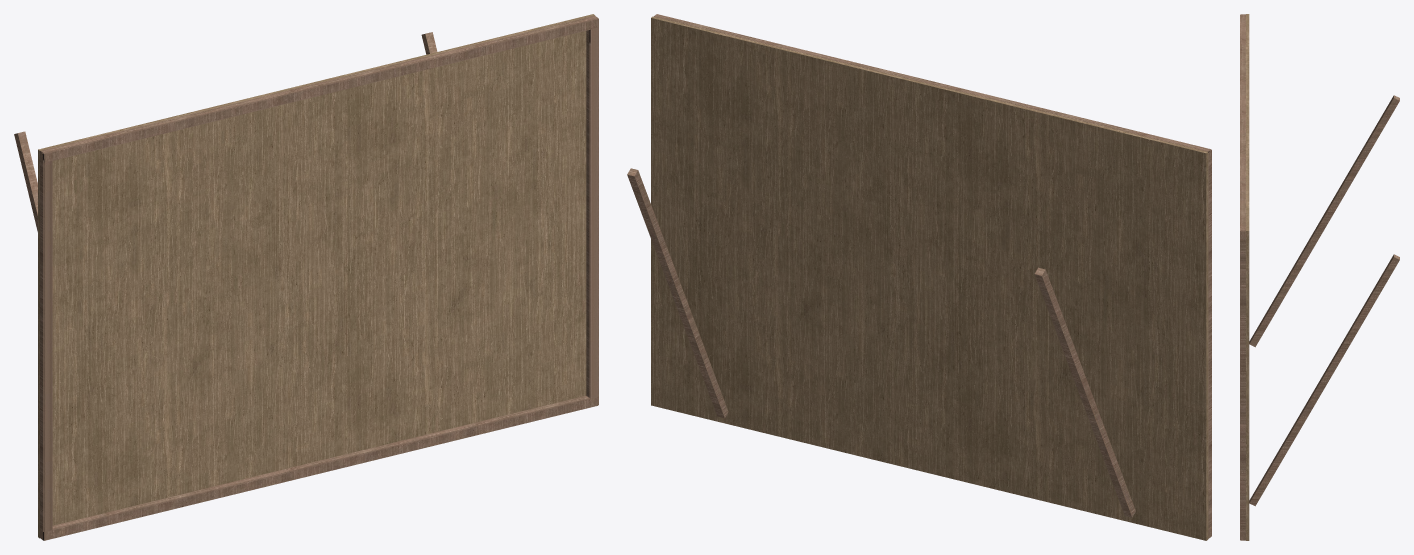
File: obj_wood_wall.glb
3 views of the same model, side by side, from view 1: azimuth 30°, elevation 25°; view 2: azimuth 150°, elevation 25°; view 3: azimuth 270°, elevation 25° (orthographic). The views are drawn at different scales.
Visible parts, largest first — view 1: wood_wall_body; view 2: wood_wall_body; view 3: wood_wall_body.
Boxes of the visible parts, box(x1,y1,x2,y2) form: wood_wall_body: box(14, 14, 598, 540); wood_wall_body: box(627, 14, 1211, 540); wood_wall_body: box(1240, 14, 1399, 540).
Size of the model in its own units: 3 by 2 by 0.9352.
Materials: 1 (1 with a texture image).
